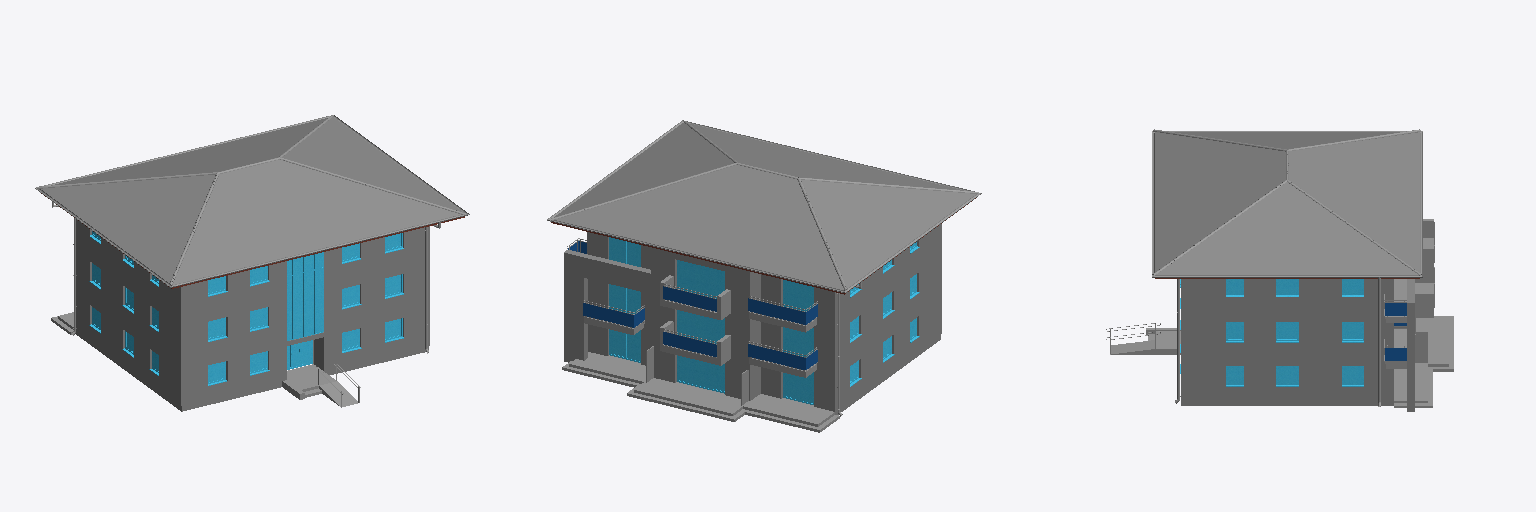
3 views of the same model, side by side, from view 1: azimuth 30°, elevation 25°; view 2: azimuth 150°, elevation 25°; view 3: azimuth 270°, elevation 25° (orthographic).
Visible parts, largest first — view 1: roof, building, window_029, window_front, gutters_000, terrace, cover_roof_003, gutters_002, window_039; view 2: roof, building, window_029, terrace, barrels, balcony, gutters_000, cover_roof_003, balcony_cover; view 3: roof, building, terrace, window_029, balcony, gutters_000, cover_roof_003, barrels, gutters_002.
Part boxes in pixels (left/top/right/bottom): roof: left=41, top=117, right=461, bottom=284; building: left=75, top=219, right=429, bottom=411; window_029: left=89, top=231, right=403, bottom=385; window_front: left=287, top=252, right=323, bottom=340; gutters_000: left=35, top=115, right=469, bottom=287; terrace: left=51, top=312, right=357, bottom=406; cover_roof_003: left=37, top=115, right=465, bottom=284; gutters_002: left=52, top=201, right=440, bottom=353; window_039: left=287, top=340, right=312, bottom=369; roof: left=554, top=123, right=975, bottom=289; building: left=564, top=224, right=941, bottom=414; window_029: left=609, top=237, right=919, bottom=404; terrace: left=562, top=352, right=839, bottom=432; barrels: left=567, top=238, right=817, bottom=370; balcony: left=584, top=275, right=816, bottom=377; gutters_000: left=547, top=120, right=981, bottom=292; cover_roof_003: left=551, top=121, right=979, bottom=290; balcony_cover: left=584, top=300, right=816, bottom=373; roof: left=1155, top=132, right=1419, bottom=274; building: left=1181, top=279, right=1414, bottom=411; terrace: left=1110, top=316, right=1453, bottom=407; window_029: left=1180, top=279, right=1363, bottom=386; balcony: left=1386, top=219, right=1433, bottom=368; gutters_000: left=1152, top=131, right=1422, bottom=277; cover_roof_003: left=1152, top=129, right=1421, bottom=275; barrels: left=1384, top=222, right=1434, bottom=362; gutters_002: left=1175, top=277, right=1380, bottom=406.
Bounding box in the file's own units: 7.87 × 4.5 × 7.93.
12 materials, 1 textured.